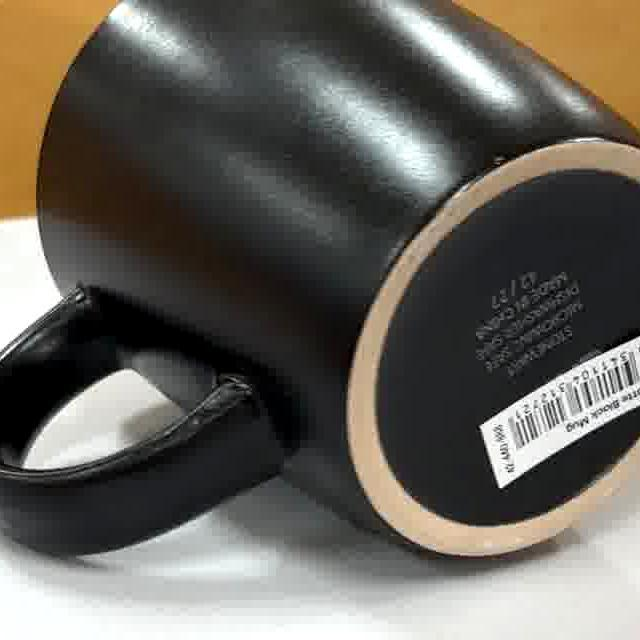cup: (0, 0, 640, 565)
